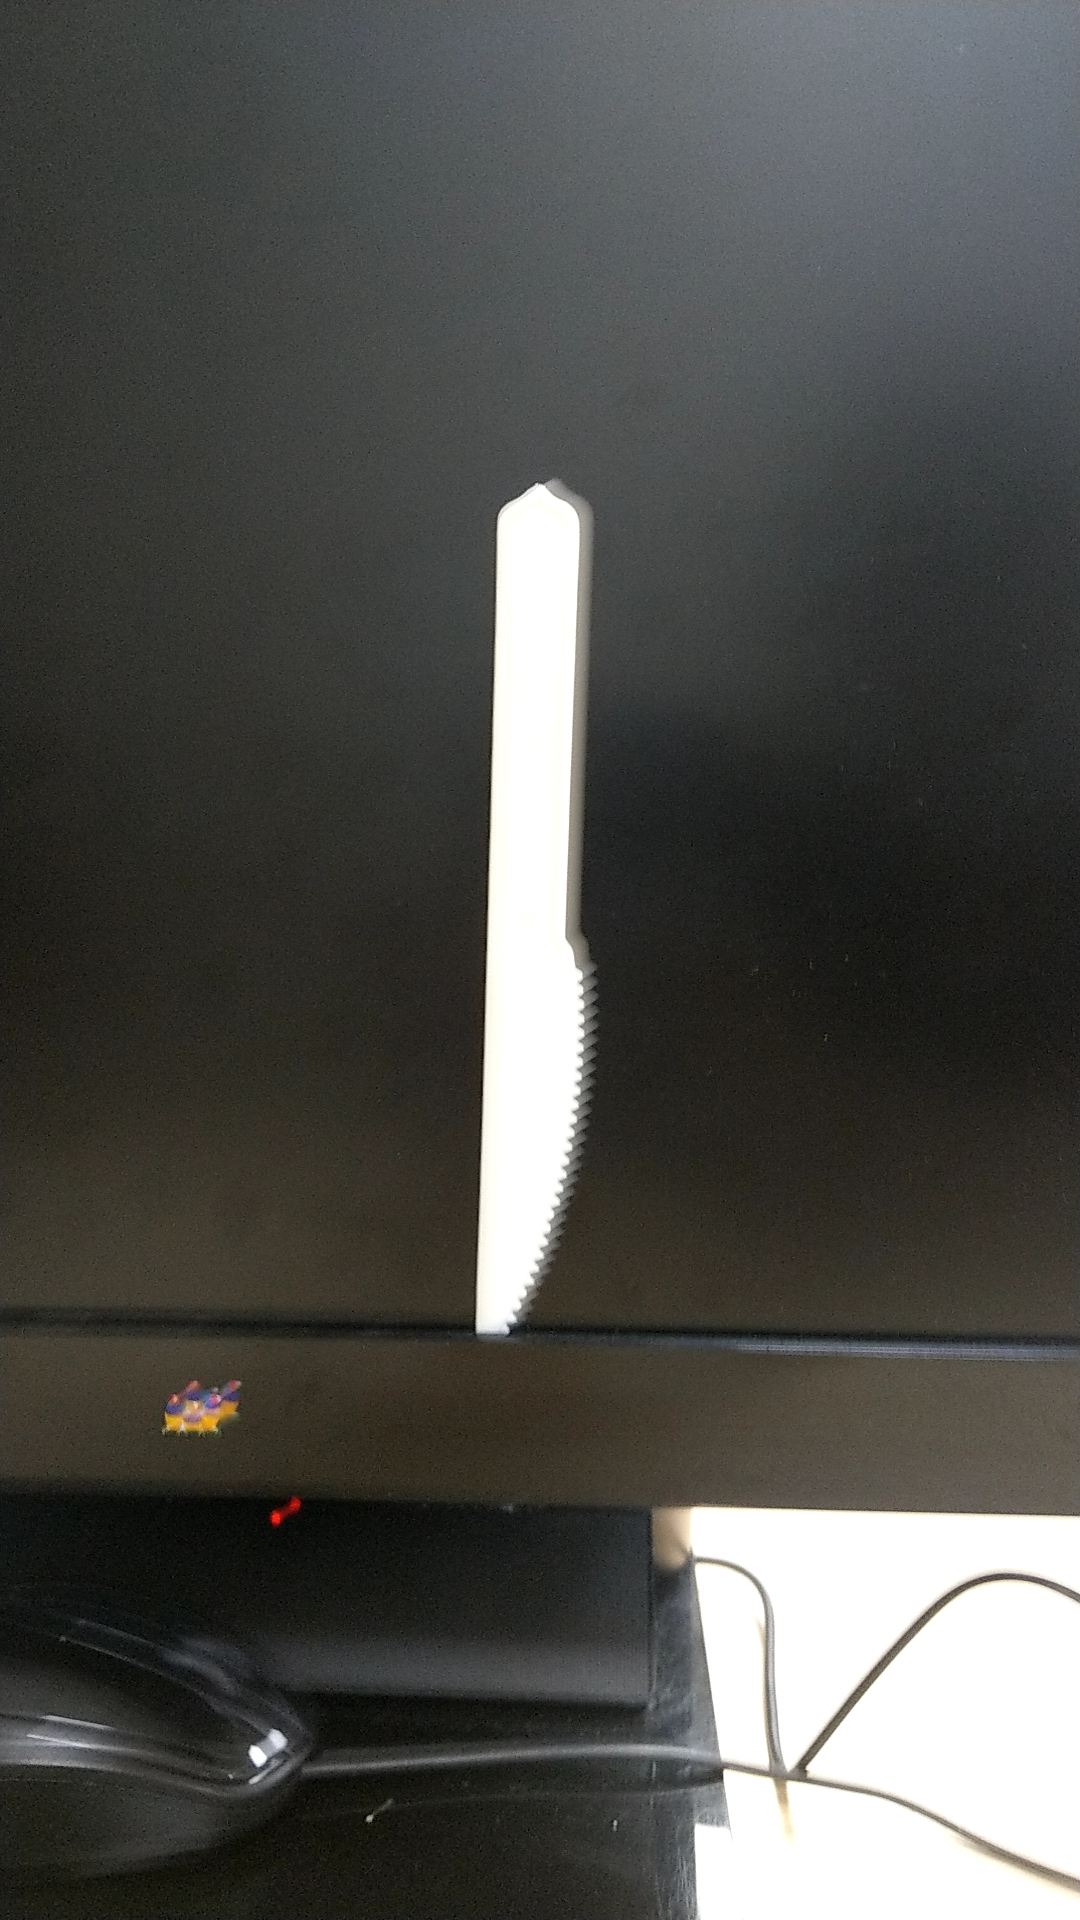knife: (465, 487, 616, 1338)
